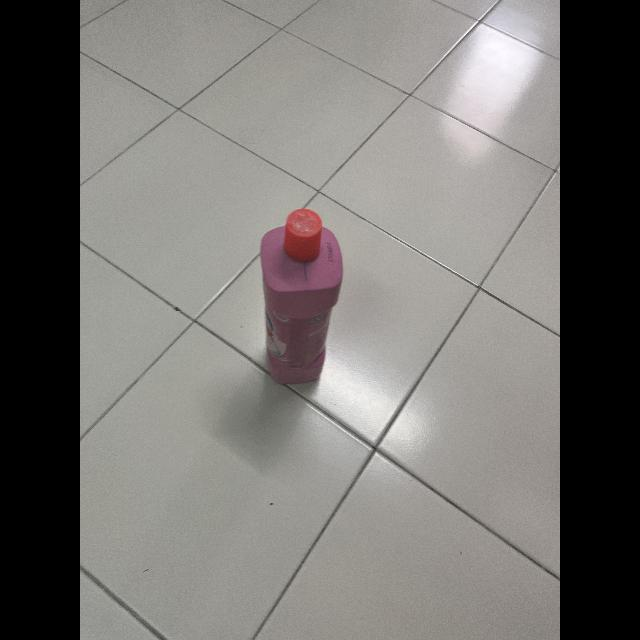chemical_plastic_bottle: (252, 204, 346, 382)
